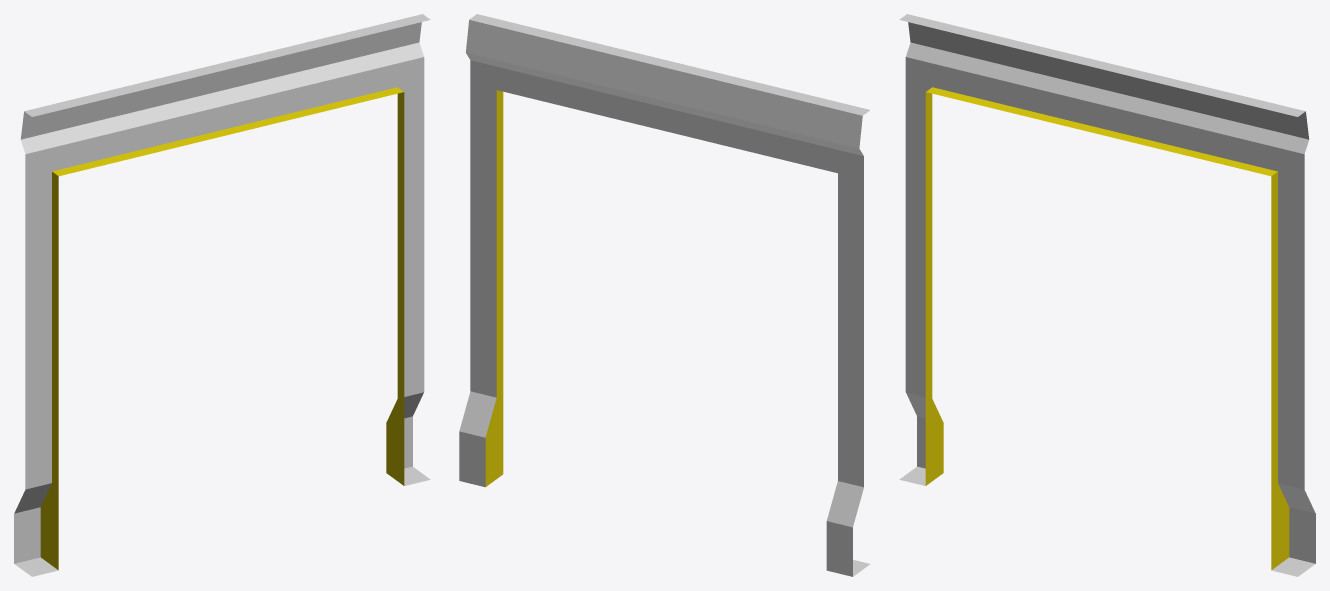
File: Exterior_Wall_Door.fbx
The picture shows the model from 3 angles, left to right: view 1: azimuth 30°, elevation 25°; view 2: azimuth 150°, elevation 25°; view 3: azimuth 330°, elevation 25°; orthographic projection.
Parts seen in each view (by area): view 1: exterior_Door; view 2: exterior_Door; view 3: exterior_Door.
Boxes of the visible parts, x1=… form: exterior_Door: x1=14, y1=14, x2=430, y2=576; exterior_Door: x1=459, y1=14, x2=870, y2=576; exterior_Door: x1=899, y1=14, x2=1315, y2=576.
Size of the model in its own units: 2 by 2.2 by 0.1559.
